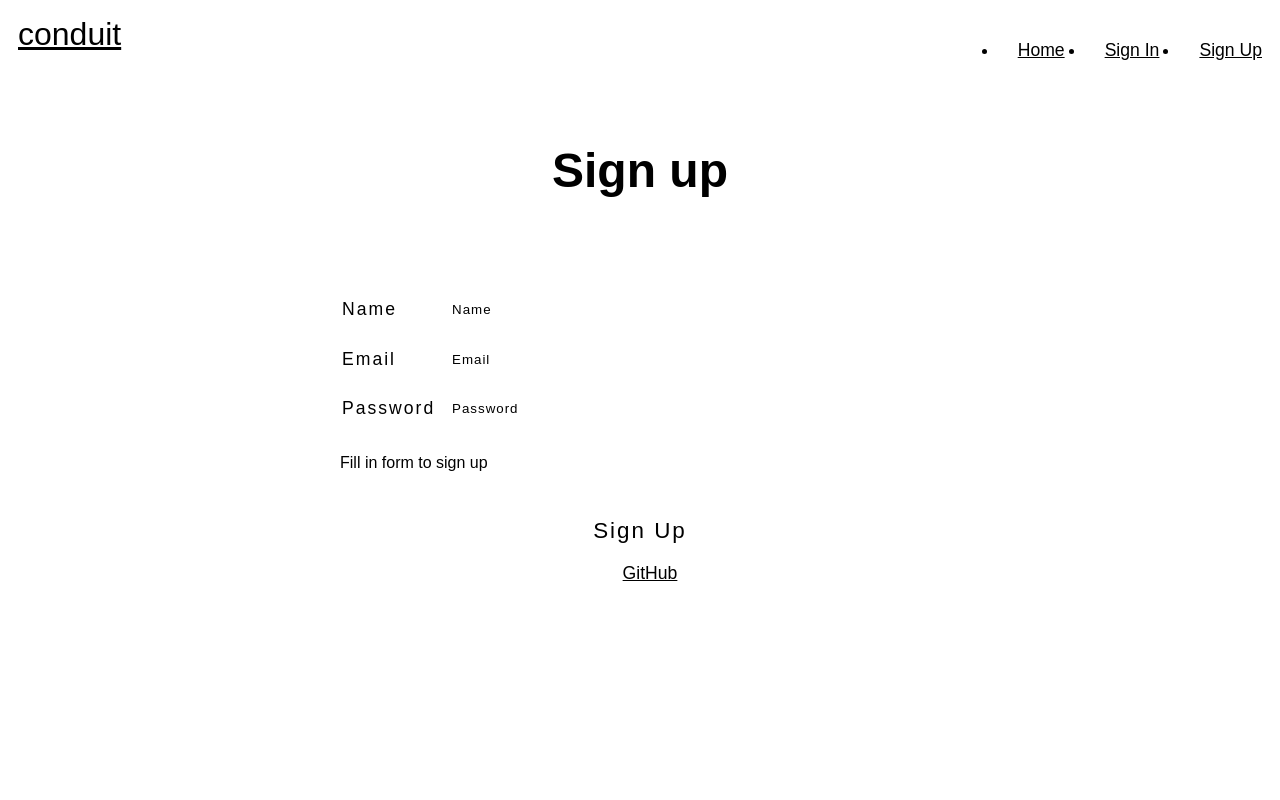
Test: SignUp page › form › shows warning on empty input blur
Step 1. Focus the field named "email" → coordinates (692, 360), box [442,345,942,374]
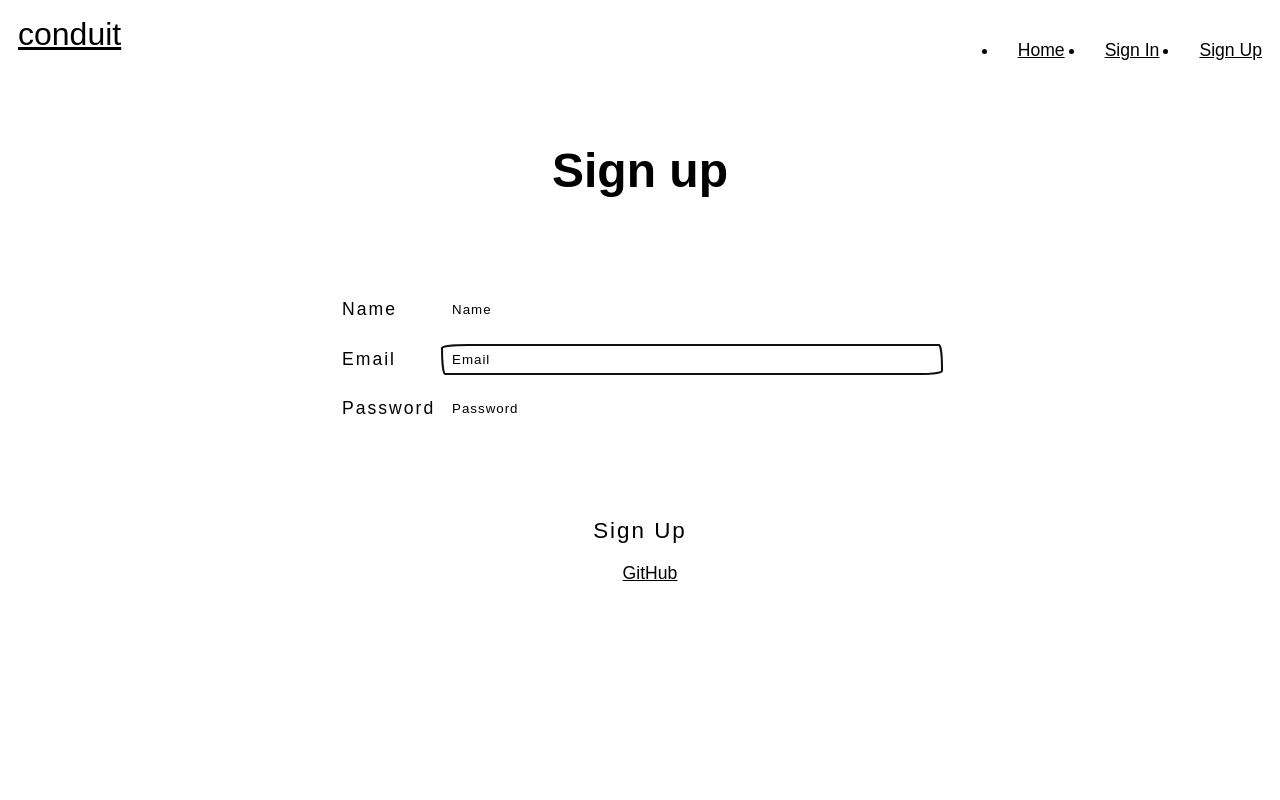
Step 2. Leave the field named "email", box [442,345,942,374]
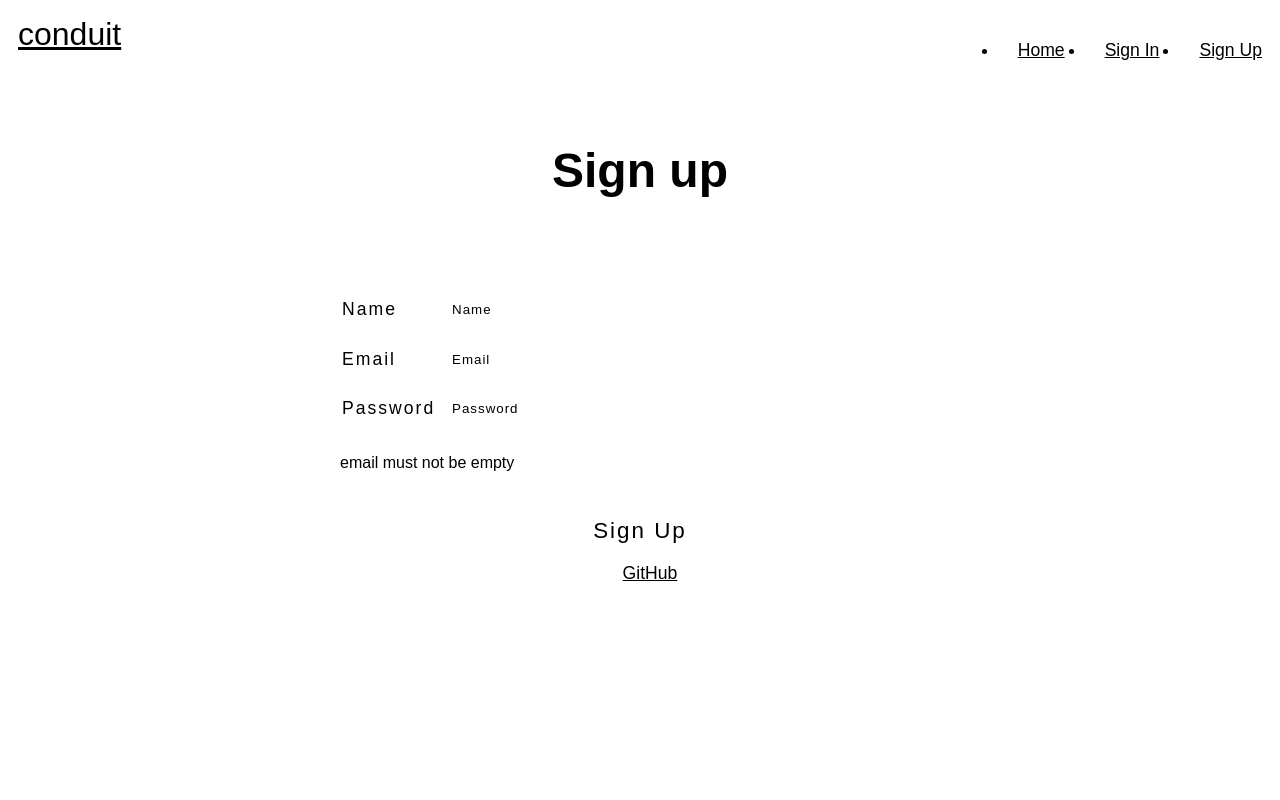
Expected: the text "email must not be empty" is shown, [340,454,514,471]
